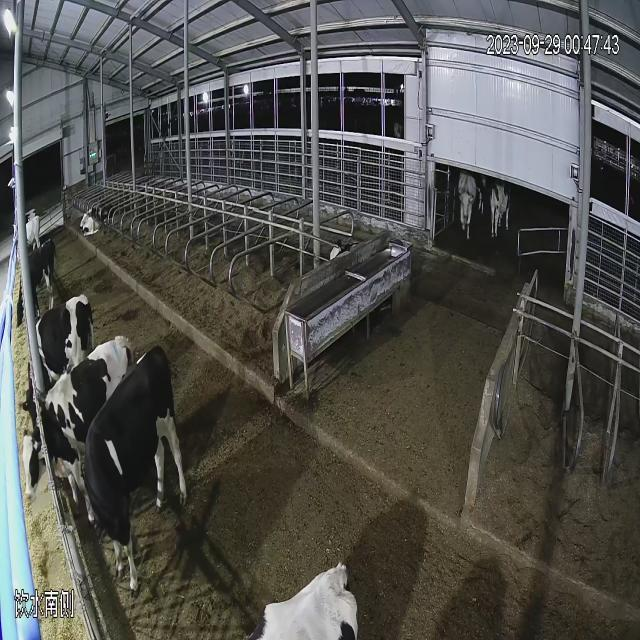feeding: (10, 229, 56, 340)
lying down: (70, 181, 122, 234), (320, 224, 358, 272)
standing: (81, 340, 192, 606), (18, 328, 135, 528), (452, 156, 478, 254)
